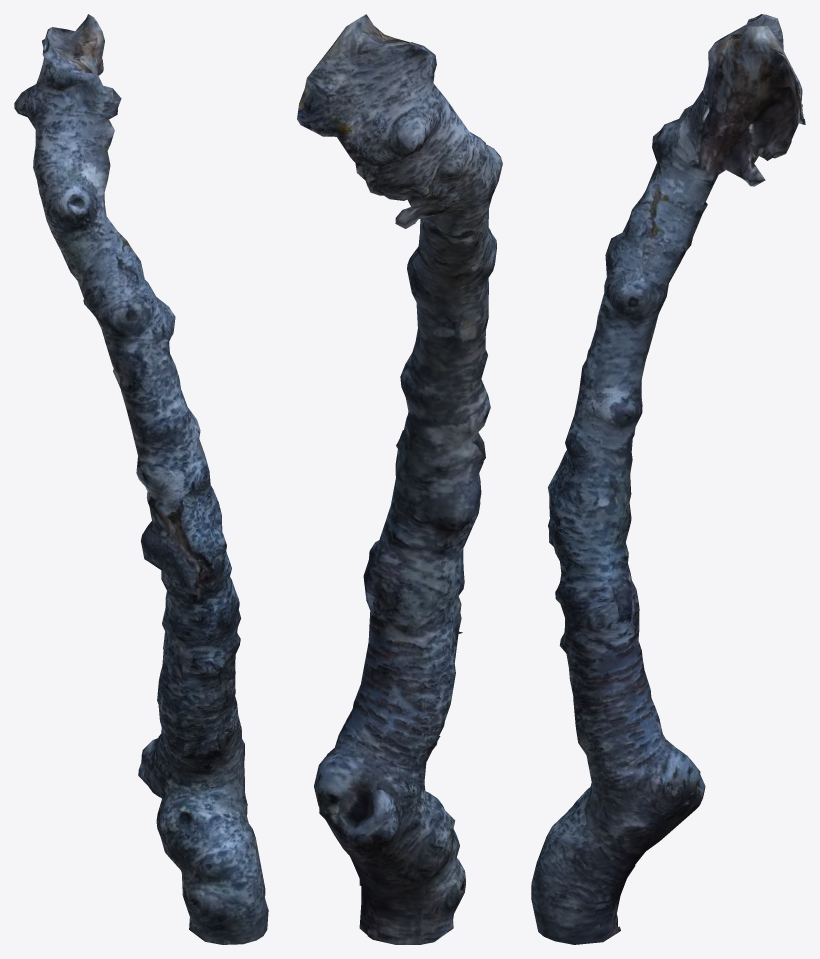
File: tree_dead_twisted.glb
3 renders of one model, left to right at view 1: azimuth 30°, elevation 25°; view 2: azimuth 150°, elevation 25°; view 3: azimuth 270°, elevation 25°, orthographic. The views are drawn at different scales.
Parts seen in each view (by area): view 1: Dead Tree; view 2: Dead Tree; view 3: Dead Tree.
Boxes of the visible parts, x1=… form: Dead Tree: x1=14, y1=14, x2=268, y2=944; Dead Tree: x1=297, y1=14, x2=502, y2=944; Dead Tree: x1=531, y1=14, x2=805, y2=944.
Bounding box in the file's own units: 1.52 × 7.48 × 2.12.
Materials: 1 (1 with a texture image).
